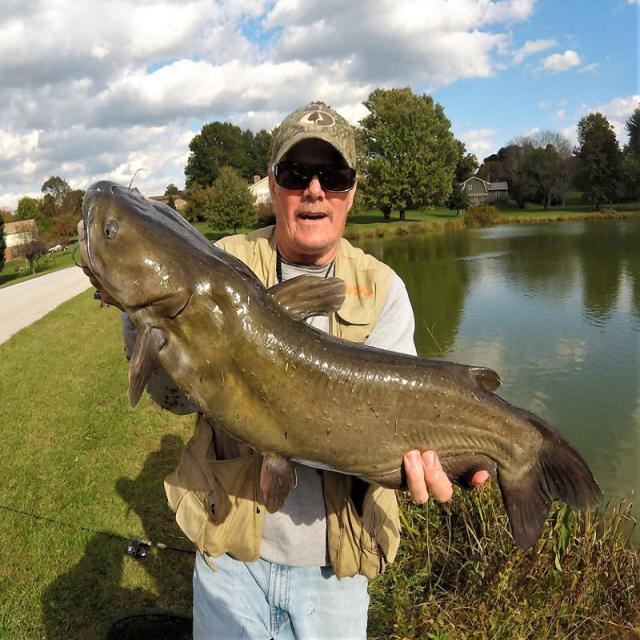Catfish - Blue: (84, 182, 602, 548)
